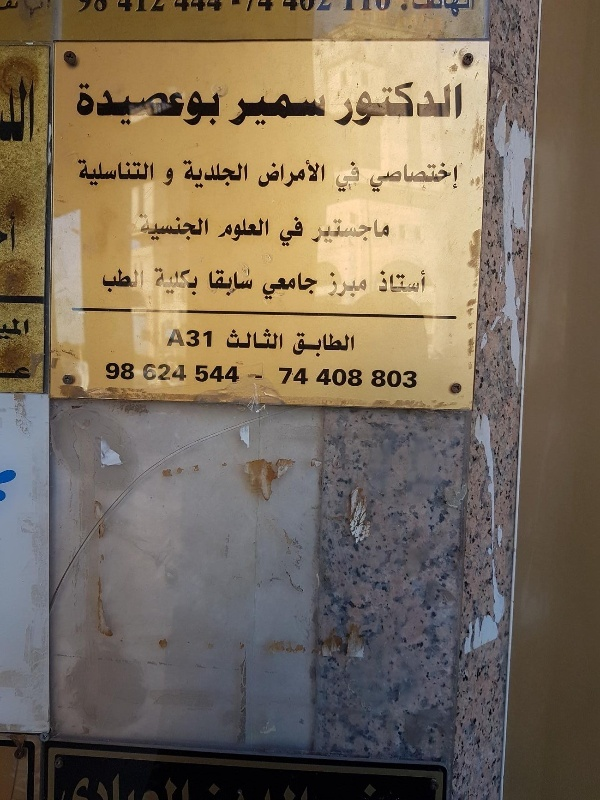text: (1, 78, 16, 148), (17, 78, 32, 148), (1, 208, 16, 256), (337, 82, 352, 127), (353, 82, 368, 127), (369, 82, 384, 127), (385, 82, 400, 127), (401, 82, 416, 127), (417, 82, 432, 127), (433, 82, 448, 127), (449, 82, 464, 127), (81, 83, 96, 128), (97, 83, 112, 128), (113, 83, 128, 128), (129, 83, 144, 128), (145, 83, 160, 128), (161, 83, 176, 128), (177, 83, 192, 128), (193, 83, 208, 128), (209, 83, 223, 128), (241, 93, 256, 128), (257, 93, 272, 128), (273, 93, 288, 128), (289, 93, 304, 128), (305, 93, 320, 128), (337, 160, 352, 193), (289, 215, 304, 247), (369, 162, 384, 193), (385, 162, 400, 193), (401, 162, 416, 193), (417, 162, 432, 193), (433, 162, 448, 193), (193, 213, 209, 242), (369, 771, 385, 800), (227, 93, 240, 128), (193, 159, 208, 189), (209, 159, 224, 189), (225, 159, 240, 189), (161, 267, 176, 297), (177, 267, 192, 297), (1, 313, 16, 343), (17, 313, 32, 343), (81, 157, 96, 186), (97, 157, 112, 186), (113, 157, 128, 186), (129, 157, 144, 186), (145, 213, 160, 242), (161, 213, 176, 242), (177, 213, 192, 242), (337, 271, 352, 300), (273, 272, 288, 301), (289, 272, 304, 301), (209, 269, 224, 298), (225, 269, 240, 298), (65, 771, 80, 800), (81, 771, 96, 800), (97, 771, 112, 800), (113, 771, 128, 800), (129, 771, 144, 800), (145, 771, 160, 800), (161, 771, 176, 800), (177, 771, 192, 800), (193, 771, 208, 800), (209, 771, 224, 800), (225, 771, 240, 800), (241, 771, 256, 800), (257, 771, 272, 800), (273, 771, 288, 800), (289, 771, 304, 800), (305, 771, 320, 800), (321, 771, 336, 800), (337, 771, 352, 800), (353, 771, 368, 800), (273, 160, 288, 188), (289, 160, 304, 188), (305, 160, 320, 188), (353, 271, 367, 300), (305, 272, 319, 301), (258, 160, 272, 188), (113, 268, 128, 294), (129, 268, 144, 294), (305, 332, 320, 358), (321, 332, 336, 358), (337, 332, 352, 358), (321, 219, 336, 244), (337, 219, 352, 244), (353, 219, 368, 244), (369, 219, 384, 244), (225, 217, 240, 242), (241, 217, 256, 242), (385, 269, 400, 293), (401, 269, 416, 293), (241, 269, 253, 298), (241, 328, 256, 350), (257, 328, 272, 350), (257, 217, 270, 242), (145, 157, 156, 186), (385, 369, 400, 390), (401, 369, 416, 390), (449, 162, 459, 193), (225, 365, 241, 384), (182, 159, 192, 189), (1, 362, 16, 382), (262, 272, 272, 301), (293, 332, 304, 358), (227, 328, 240, 350), (177, 329, 192, 348), (193, 329, 208, 348), (321, 368, 336, 387), (337, 368, 352, 387), (209, 365, 224, 384), (145, 363, 160, 382), (161, 363, 176, 382), (113, 362, 128, 381), (33, 78, 37, 148), (17, 362, 31, 382), (371, 369, 384, 390), (289, 367, 304, 385), (353, 160, 361, 193), (327, 271, 336, 300), (163, 167, 176, 187), (102, 268, 112, 294), (280, 215, 288, 247), (17, 1, 32, 18), (33, 1, 48, 18), (401, 1, 416, 18), (417, 1, 432, 18), (433, 1, 448, 18), (449, 1, 464, 18), (195, 365, 208, 384), (273, 328, 284, 350), (17, 208, 22, 256), (2, 1, 16, 18), (311, 219, 320, 244), (81, 1, 96, 16), (97, 1, 112, 16), (113, 1, 128, 16), (129, 1, 144, 16), (145, 1, 160, 16), (161, 1, 176, 16), (177, 1, 192, 16), (193, 1, 208, 16), (209, 1, 224, 16), (225, 1, 240, 16), (241, 1, 256, 16), (257, 1, 272, 16), (273, 1, 288, 16), (289, 1, 304, 16), (305, 1, 320, 16), (321, 1, 336, 16), (337, 1, 352, 16), (353, 1, 368, 16), (369, 1, 384, 16), (417, 269, 426, 293), (321, 93, 327, 128), (241, 159, 248, 189), (465, 1, 477, 18), (57, 771, 64, 800), (353, 368, 363, 387), (177, 363, 187, 382), (76, 83, 80, 128), (154, 267, 160, 297), (193, 267, 199, 297), (278, 367, 288, 385), (217, 217, 224, 242), (167, 329, 176, 348), (385, 219, 391, 244), (139, 213, 144, 242), (321, 160, 326, 188), (333, 82, 336, 127), (385, 1, 394, 16), (379, 269, 384, 293), (106, 362, 112, 381), (129, 362, 135, 381), (209, 329, 214, 348), (77, 157, 80, 186), (316, 368, 320, 387), (75, 1, 80, 16), (305, 367, 309, 385), (49, 1, 53, 18), (334, 160, 336, 193), (353, 332, 355, 358), (257, 374, 264, 381), (142, 363, 144, 382), (33, 313, 34, 343), (417, 369, 418, 390), (254, 374, 256, 381)
